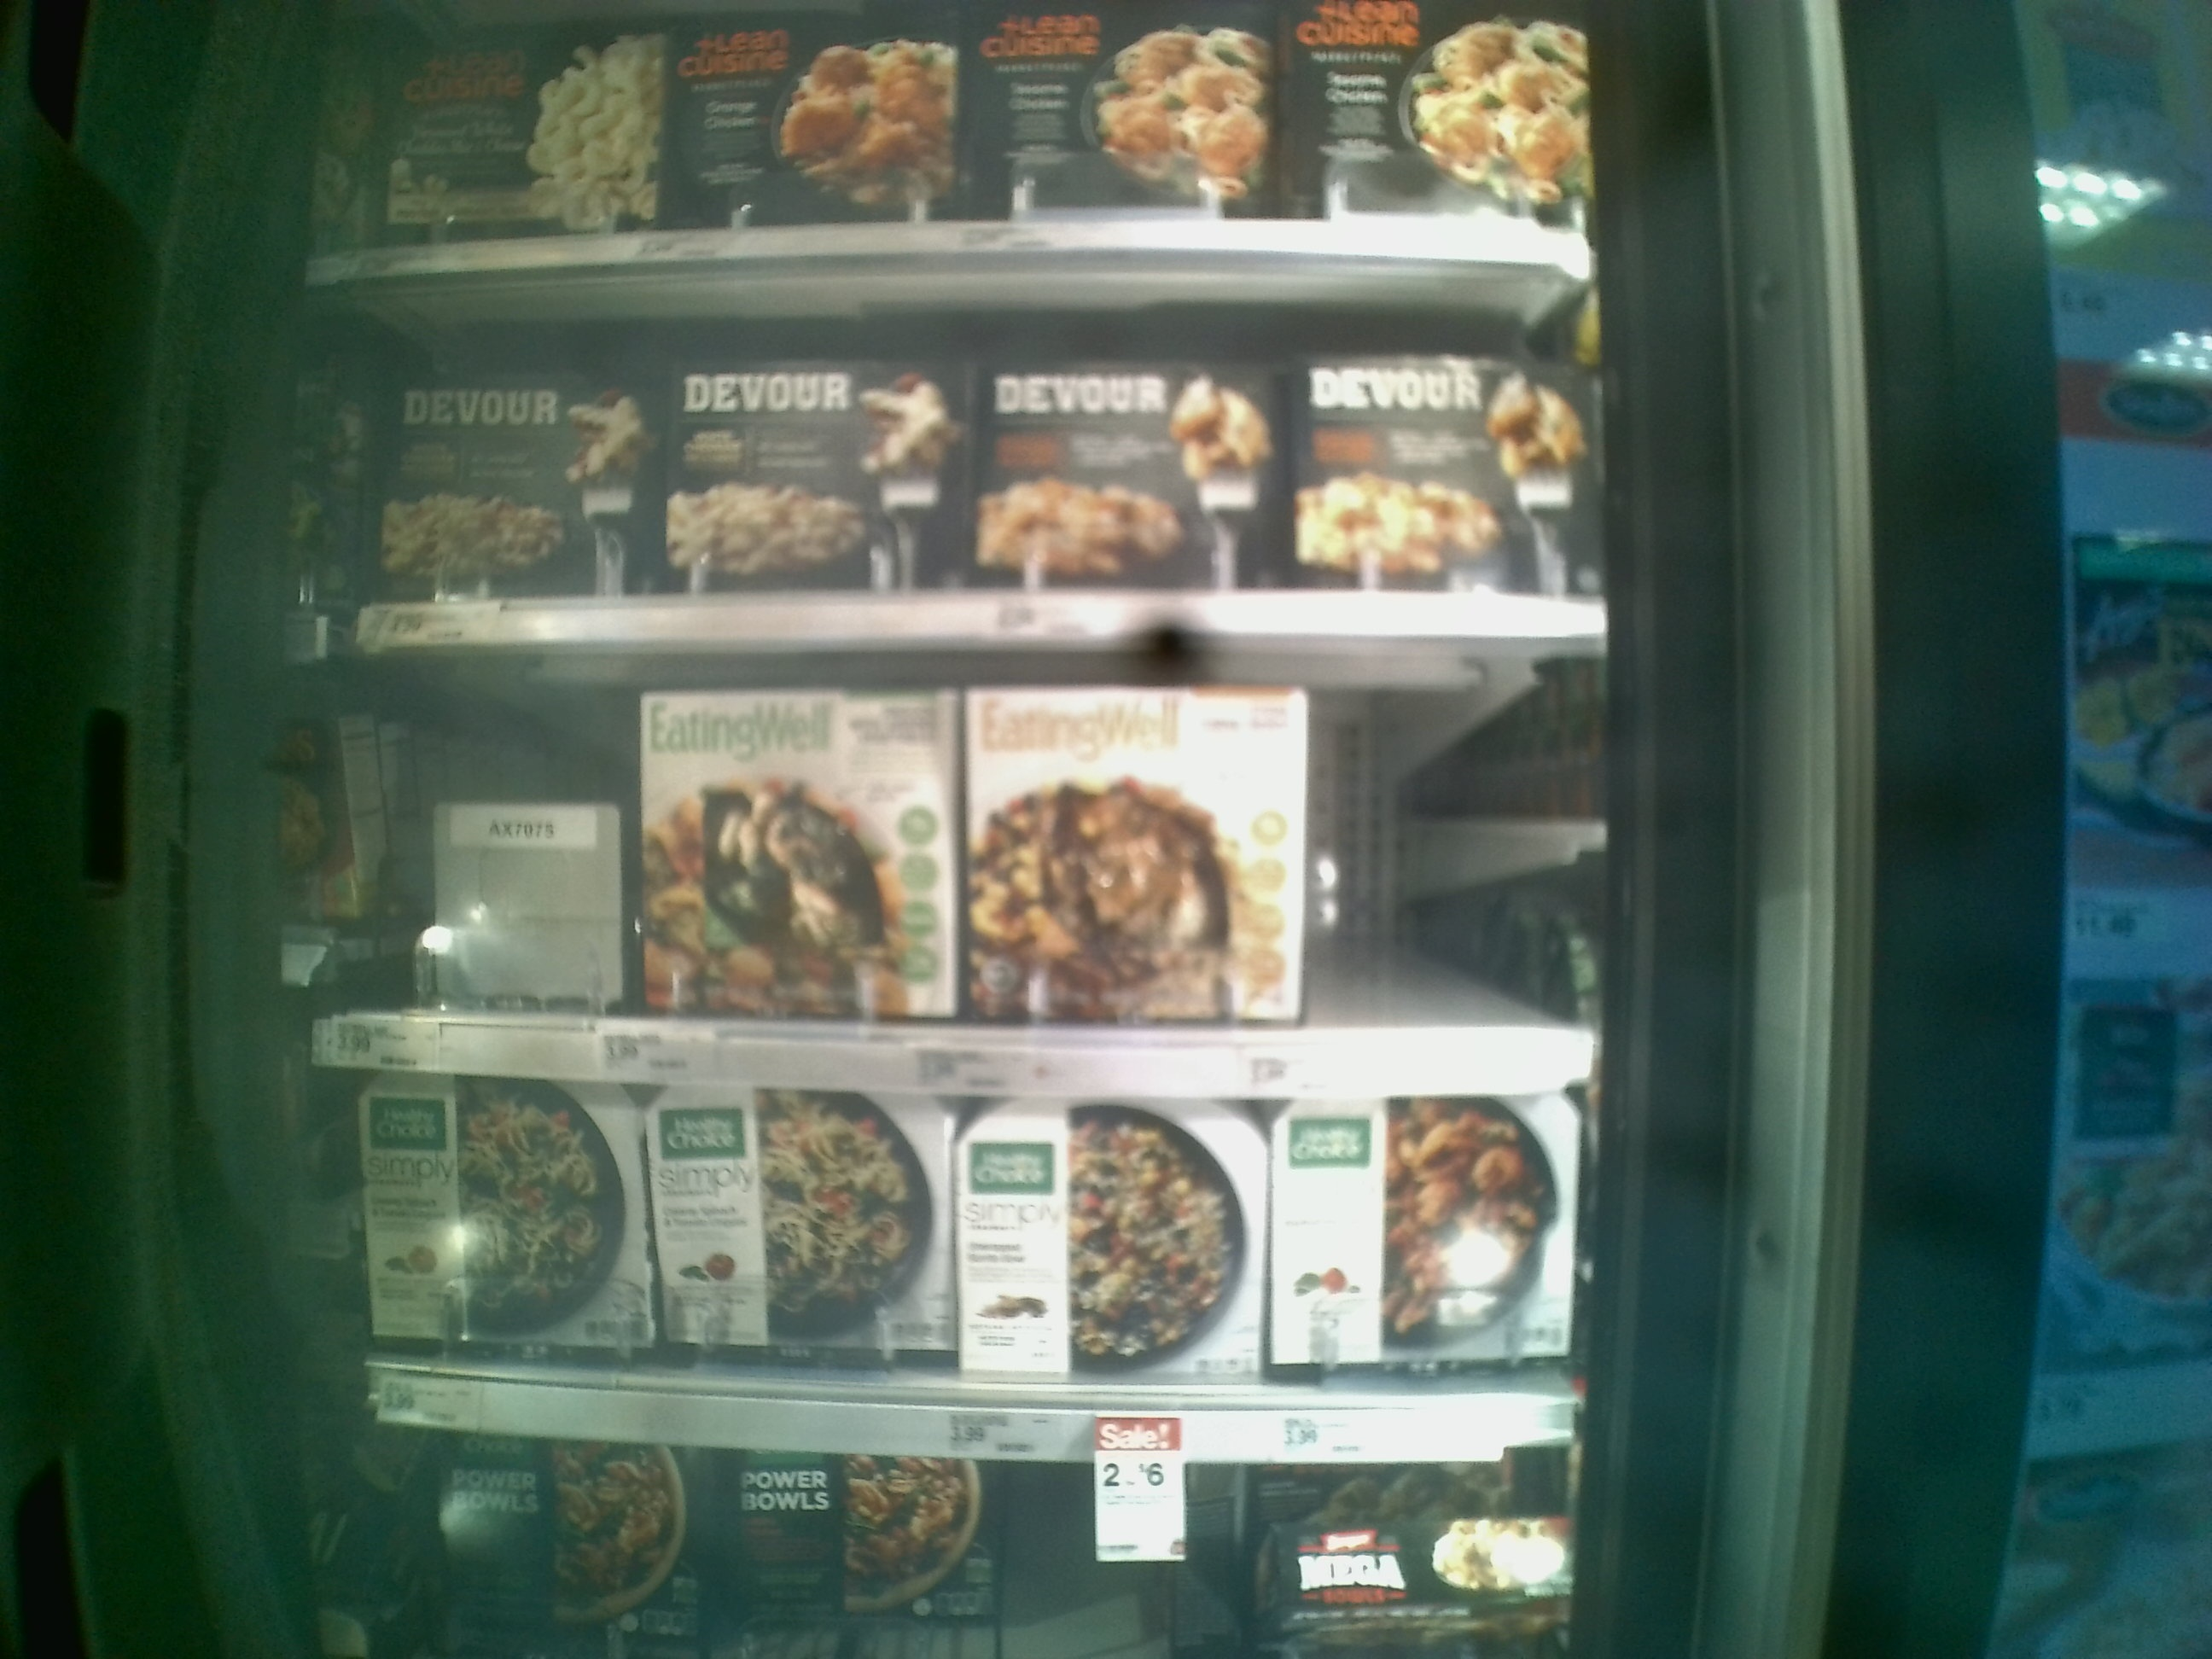pizza: (963, 692, 1313, 1018), (639, 681, 963, 1018), (960, 1103, 1273, 1382), (1275, 1103, 1571, 1364), (648, 1096, 939, 1361), (361, 1084, 643, 1356), (1296, 352, 1609, 591), (963, 359, 1282, 587), (651, 364, 958, 587), (984, 9, 1280, 220), (376, 23, 657, 240), (432, 1441, 718, 1654), (1294, 3, 1587, 211), (676, 28, 981, 225), (383, 373, 639, 598), (742, 1452, 977, 1629)
